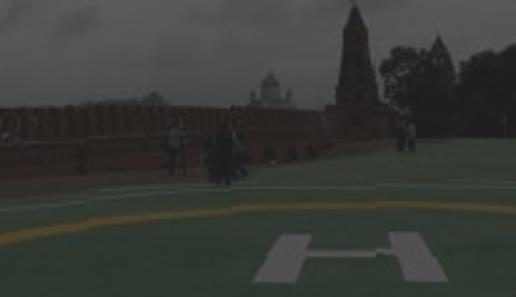Apron: (1, 203, 513, 297)
